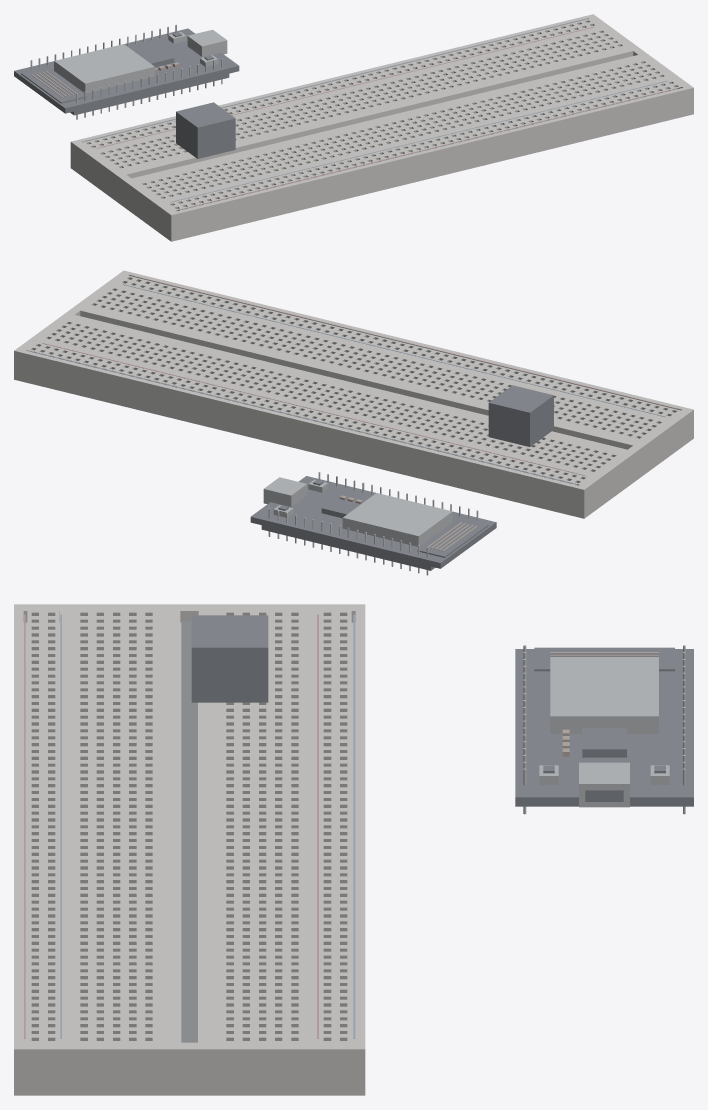
File: step-3.glb
3 renders of one model, top to bottom at view 1: azimuth 30°, elevation 25°; view 2: azimuth 150°, elevation 25°; view 3: azimuth 270°, elevation 25°, orthographic. The views are drawn at different scales.
Parts seen in each view (by area): view 1: breadboard__mesh, uno__mesh, piezo__mesh; view 2: breadboard__mesh, uno__mesh, piezo__mesh; view 3: breadboard__mesh, uno__mesh, piezo__mesh.
Boxes of the visible parts, x1,y1,x2,y2 form: breadboard__mesh: [70, 14, 693, 241]; uno__mesh: [14, 24, 239, 119]; piezo__mesh: [176, 102, 235, 158]; breadboard__mesh: [14, 270, 693, 518]; uno__mesh: [250, 472, 496, 575]; piezo__mesh: [488, 385, 553, 446]; breadboard__mesh: [14, 604, 365, 1095]; uno__mesh: [515, 645, 693, 814]; piezo__mesh: [191, 615, 268, 702].
Size of the model in its own units: 0.165 by 0.0175 by 0.1065.
